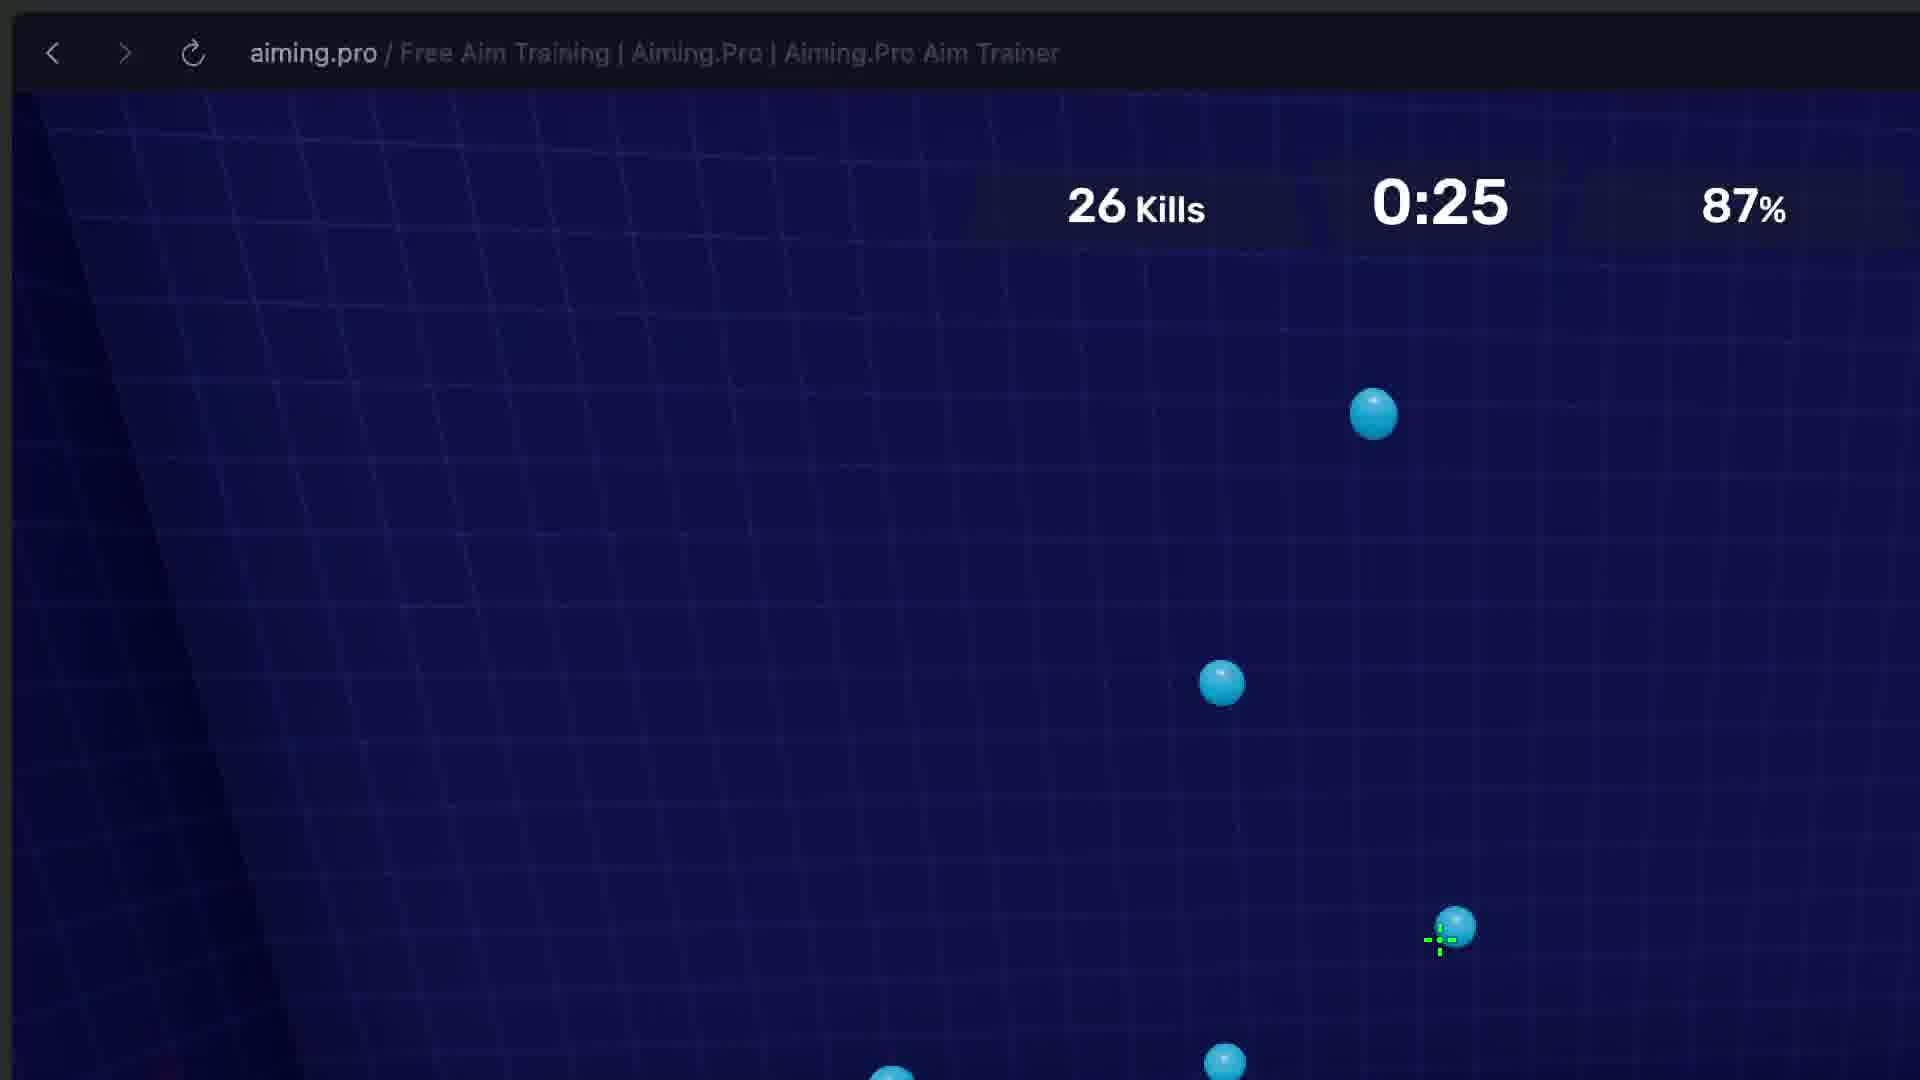target: (1423, 905, 1478, 956), (1350, 389, 1396, 439), (1197, 661, 1246, 705), (1205, 1044, 1247, 1079), (869, 1064, 914, 1079), (876, 1065, 898, 1079)
